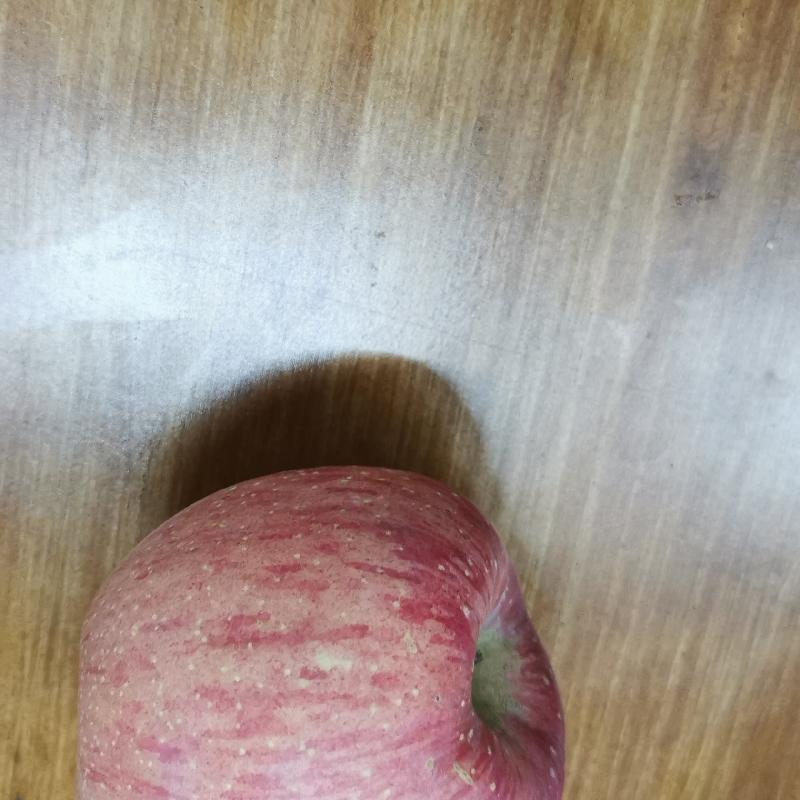apples: (61, 454, 570, 800)
